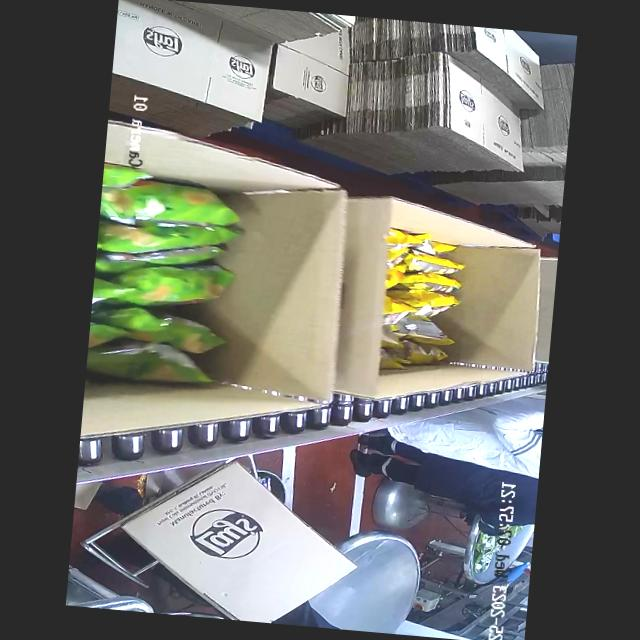salted: (378, 230, 463, 362)
yogurt: (84, 168, 250, 394)
